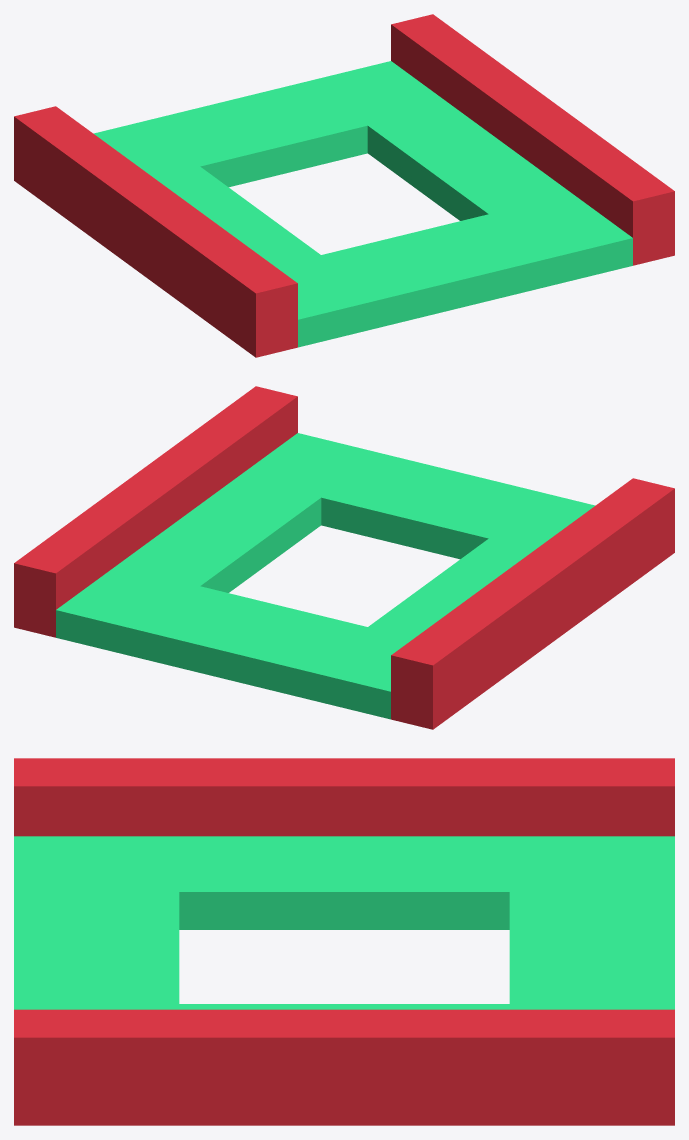
The model's file is gap.fbx.
The picture shows the model from 3 angles, top to bottom: view 1: azimuth 30°, elevation 25°; view 2: azimuth 150°, elevation 25°; view 3: azimuth 270°, elevation 25°; orthographic projection. The views are drawn at different scales.
Visible parts, largest first — view 1: gap; view 2: gap; view 3: gap.
Boxes of the visible parts, bbox=[...] form: gap: bbox=[14, 14, 674, 357]; gap: bbox=[14, 386, 674, 729]; gap: bbox=[14, 758, 674, 1125].
Bounding box in the file's own units: 10 × 1.47 × 10.
